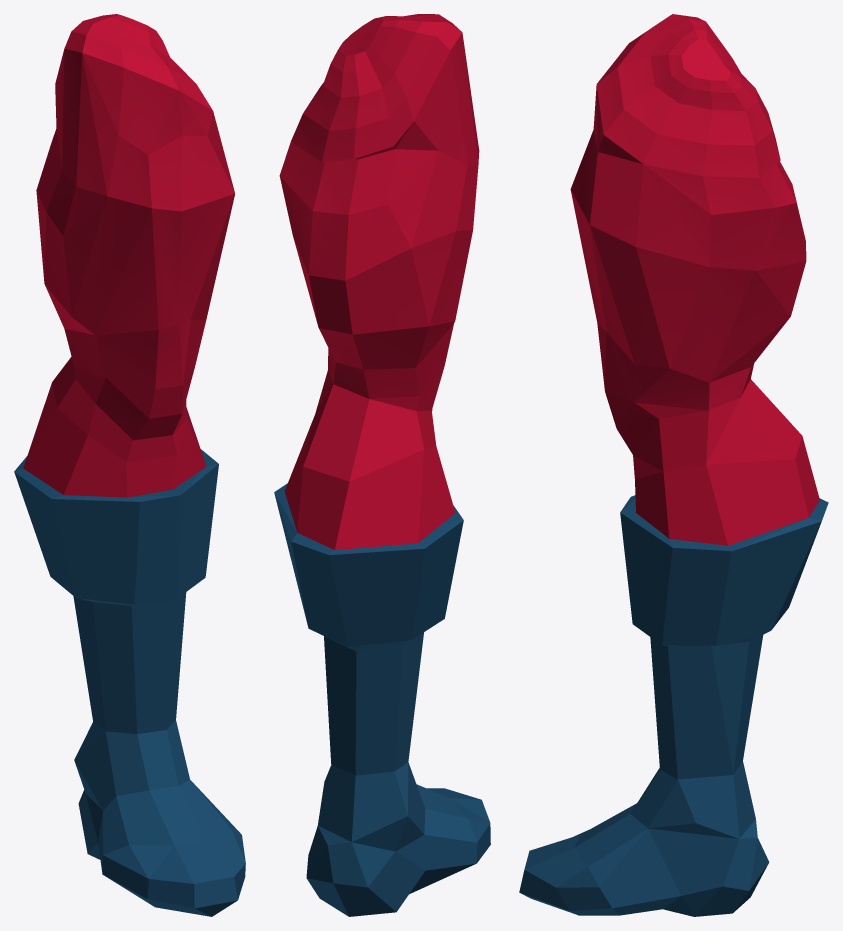
The model's file is left_leg.fbx.
The picture shows the model from 3 angles, left to right: view 1: azimuth 30°, elevation 25°; view 2: azimuth 150°, elevation 25°; view 3: azimuth 270°, elevation 25°; orthographic projection. The views are drawn at different scales.
Visible parts, largest first — view 1: left_thigh; view 2: left_thigh; view 3: left_thigh.
Part boxes in pixels (x1,y1,x2,y2): left_thigh: [14, 14, 245, 916]; left_thigh: [274, 14, 490, 916]; left_thigh: [519, 14, 828, 916].
Size of the model in its own units: 0.2256 by 1.13 by 0.3677.
